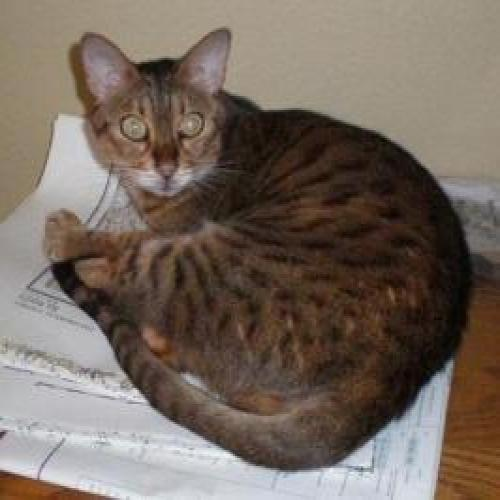bengal: (74, 24, 242, 203)
